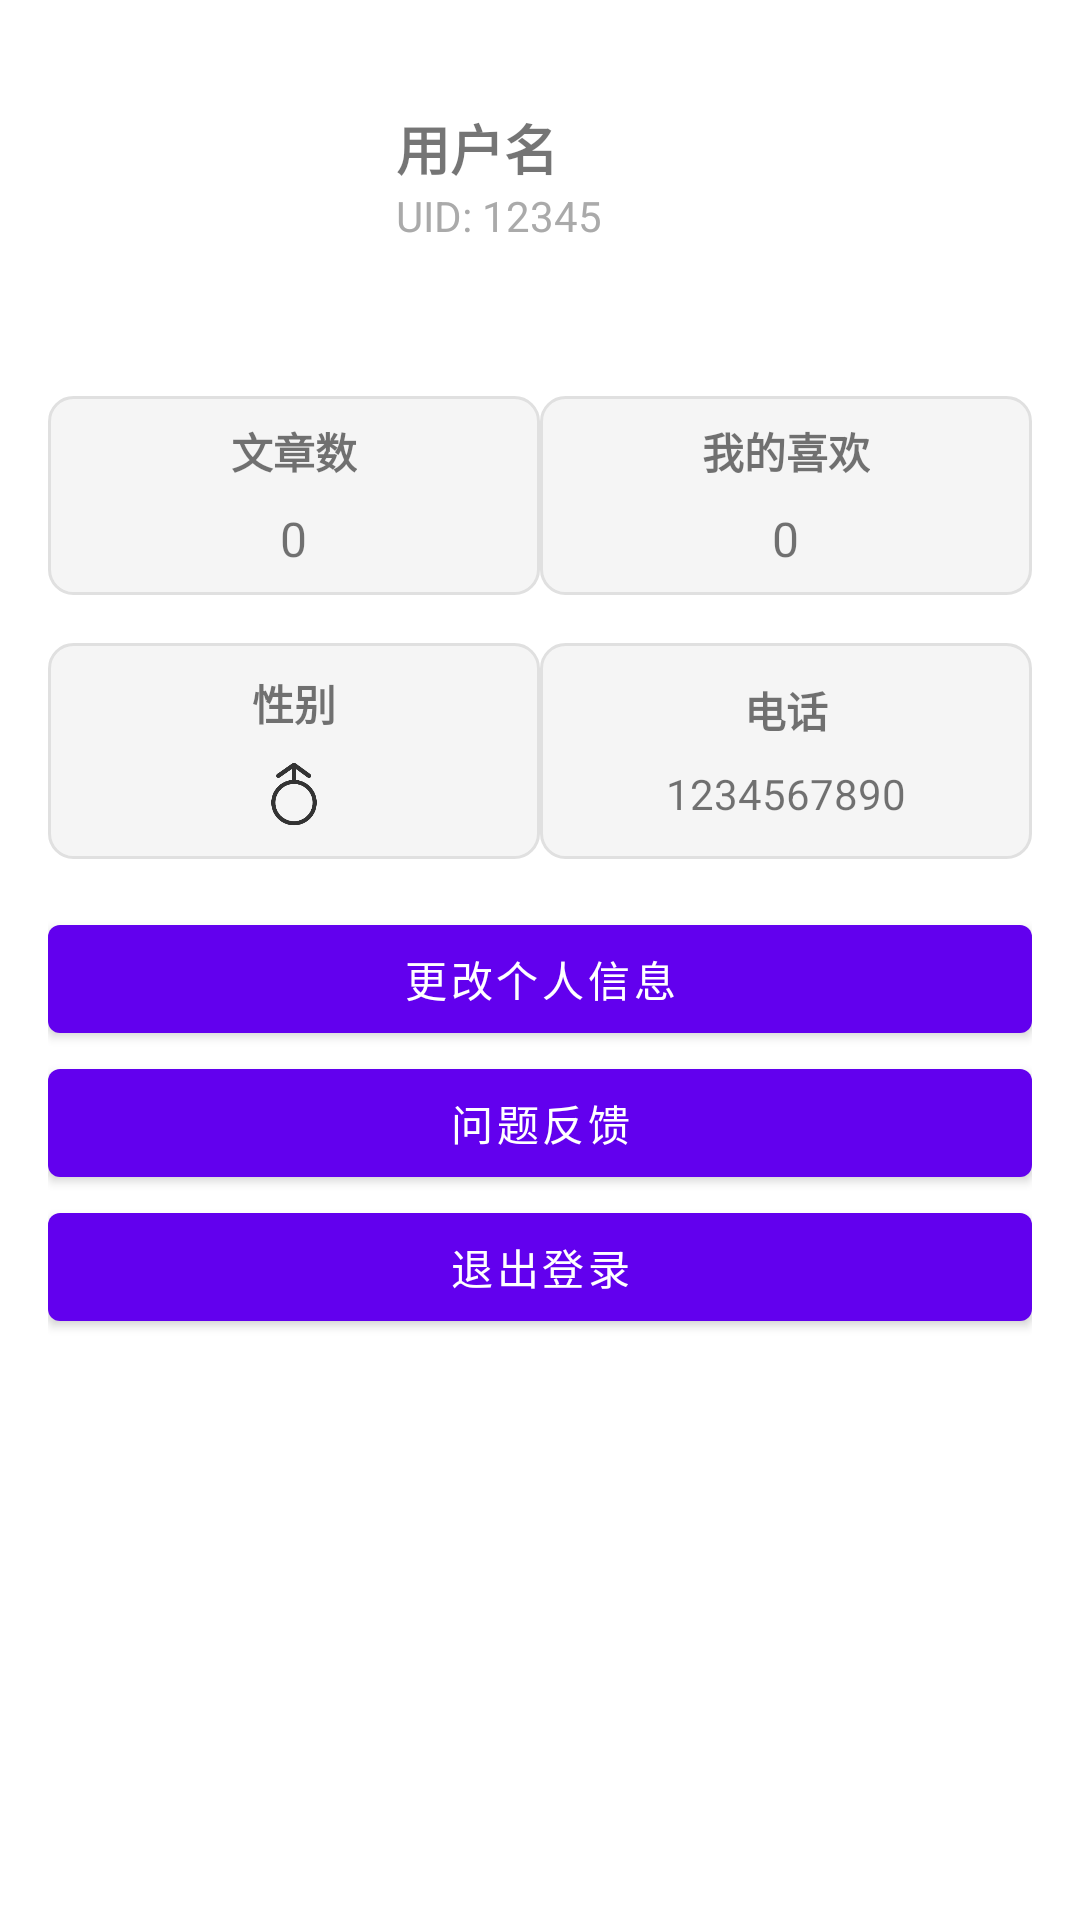

Icon click points for this 1080px x 1920px phone screenshot, format (x=x, y=y):
gender male: (x=294, y=794)
